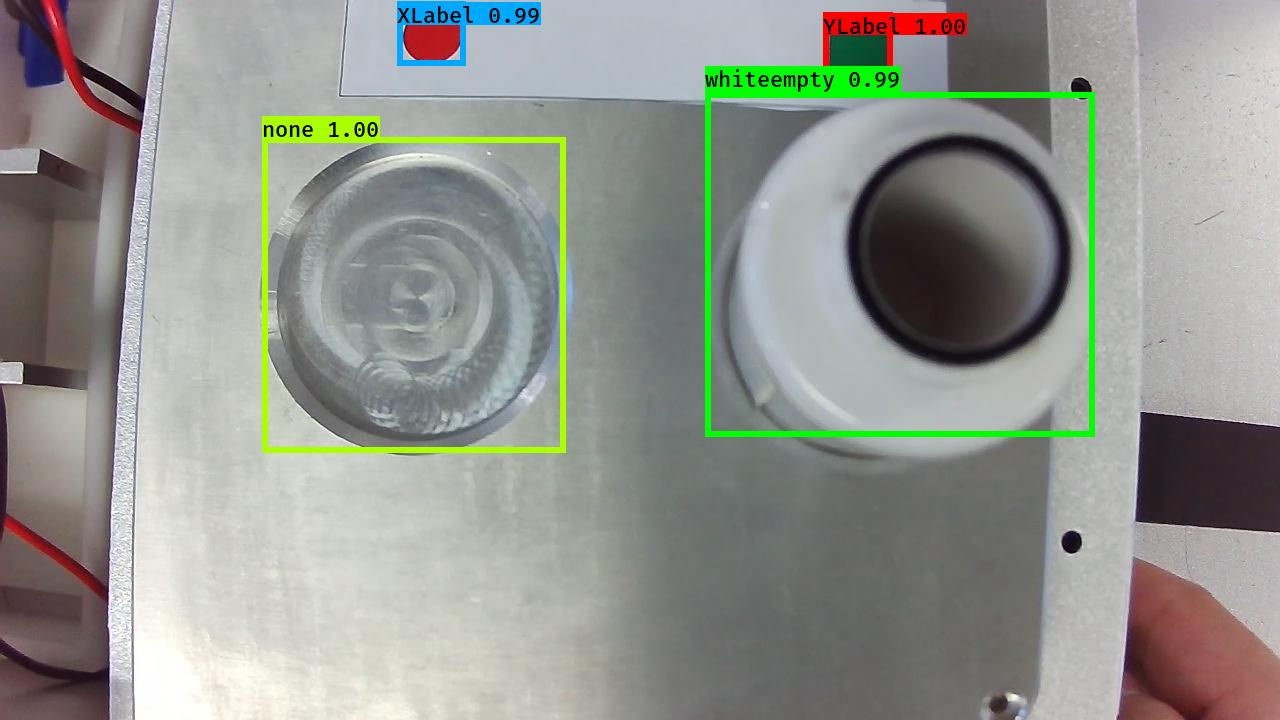XLabel: (401, 3, 464, 66)
YLabel: (827, 20, 892, 87)
none: (255, 132, 574, 459)
whiteempty: (717, 96, 1100, 464)
